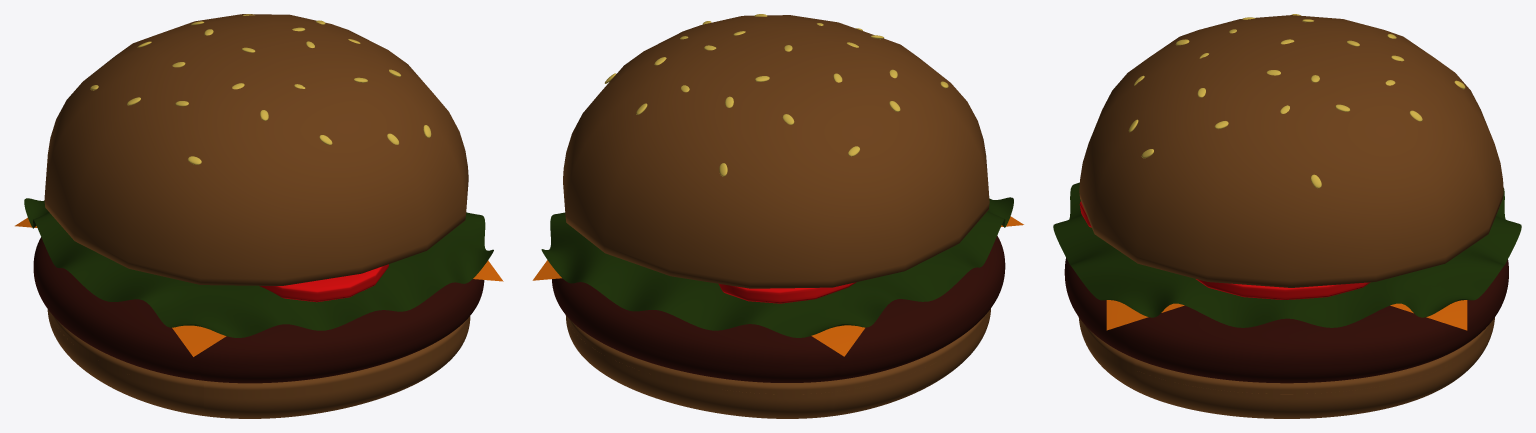
Rendered from hamburguesa-opt.glb.
3 views of the same model, side by side, from view 1: azimuth 30°, elevation 25°; view 2: azimuth 150°, elevation 25°; view 3: azimuth 270°, elevation 25° (orthographic).
Visible parts, largest first — view 1: pan_arriba, carne, lechuga, pan_abajo, tomate1, queso, a_sesamo; view 2: pan_arriba, carne, lechuga, pan_abajo, tomate1, queso, a_sesamo; view 3: pan_arriba, carne, lechuga, pan_abajo, tomate1, queso, a_sesamo.
Boxes of the visible parts, x1=… form: pan_arriba: x1=44, y1=14, x2=468, y2=285; carne: x1=33, y1=237, x2=484, y2=383; lechuga: x1=24, y1=198, x2=493, y2=337; pan_abajo: x1=47, y1=309, x2=470, y2=418; tomate1: x1=260, y1=264, x2=388, y2=302; queso: x1=15, y1=217, x2=503, y2=356; a_sesamo: x1=90, y1=14, x2=431, y2=164; pan_arriba: x1=563, y1=15, x2=989, y2=288; carne: x1=552, y1=235, x2=1005, y2=382; lechuga: x1=541, y1=197, x2=1013, y2=337; pan_abajo: x1=565, y1=308, x2=990, y2=418; tomate1: x1=718, y1=282, x2=856, y2=303; queso: x1=532, y1=216, x2=1023, y2=356; a_sesamo: x1=604, y1=14, x2=948, y2=176; pan_arriba: x1=1079, y1=15, x2=1503, y2=287; carne: x1=1064, y1=257, x2=1508, y2=383; lechuga: x1=1053, y1=182, x2=1521, y2=327; pan_abajo: x1=1078, y1=317, x2=1494, y2=418; tomate1: x1=1079, y1=201, x2=1370, y2=299; queso: x1=1106, y1=300, x2=1467, y2=330; a_sesamo: x1=1128, y1=14, x2=1465, y2=188.
Size of the model in its own units: 0.0378 by 0.0286 by 0.0397.
